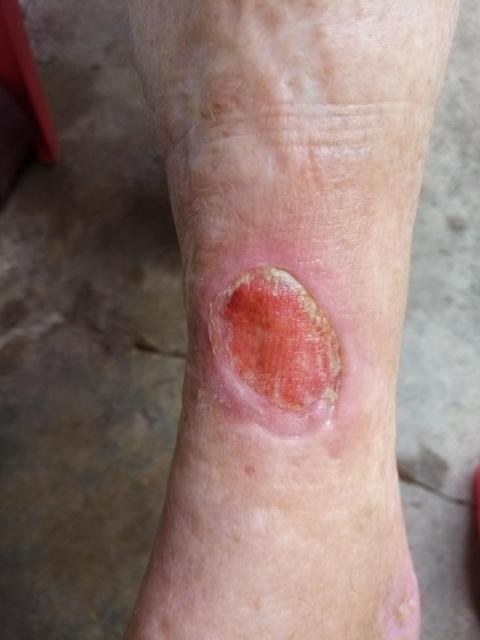wound: (209, 260, 340, 436)
